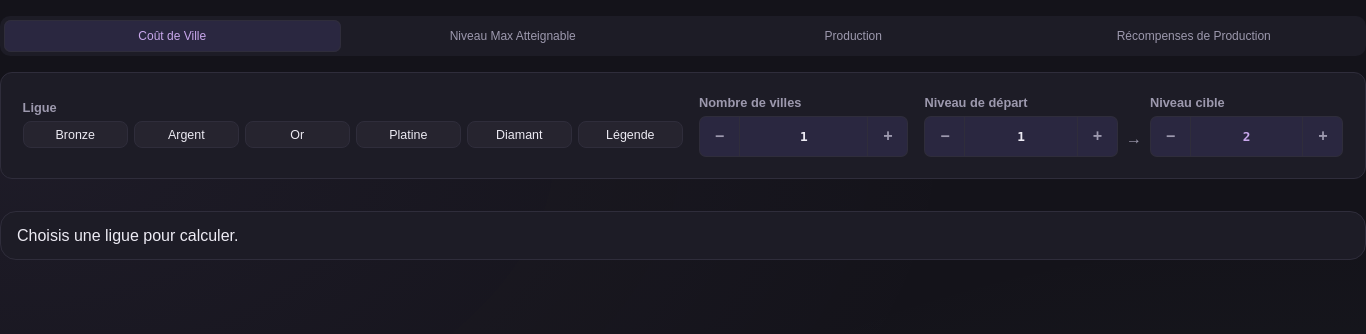
CityCalculators › computes the Armée block bonus independently from the Or block
Click the tab "Récompenses de Production" at (1194, 36), box [1026,20,1362,52]
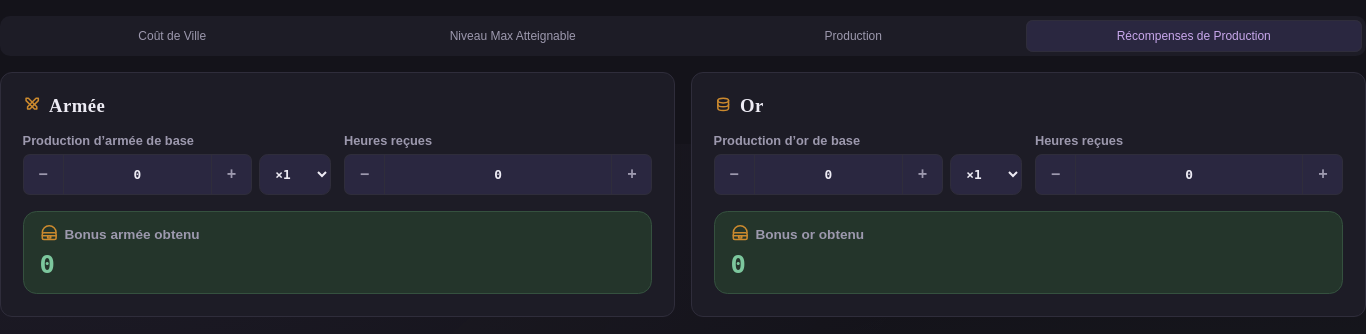
Replace the text in the number field named "Production d’or de base" with "100" at (828, 174), box [754,154,903,195]
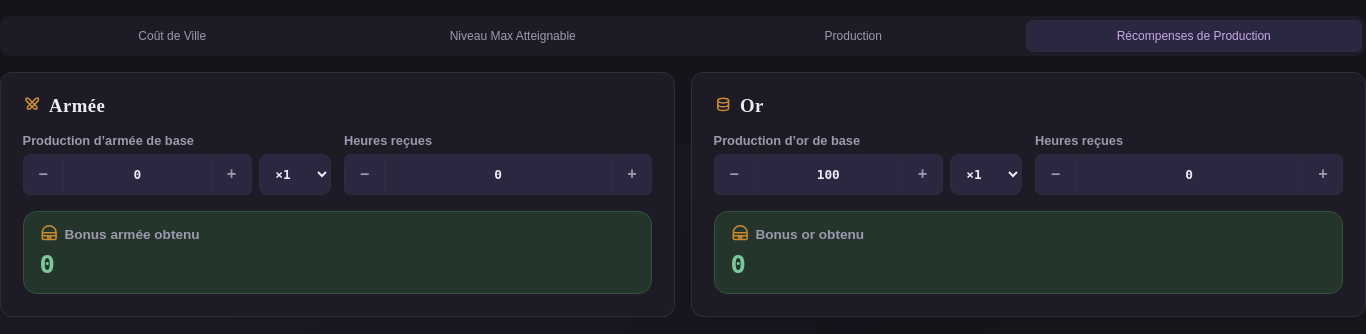
Replace the text in the number field named "Heures reçues — Or" with "10" at (1189, 174), box [1075,154,1303,195]
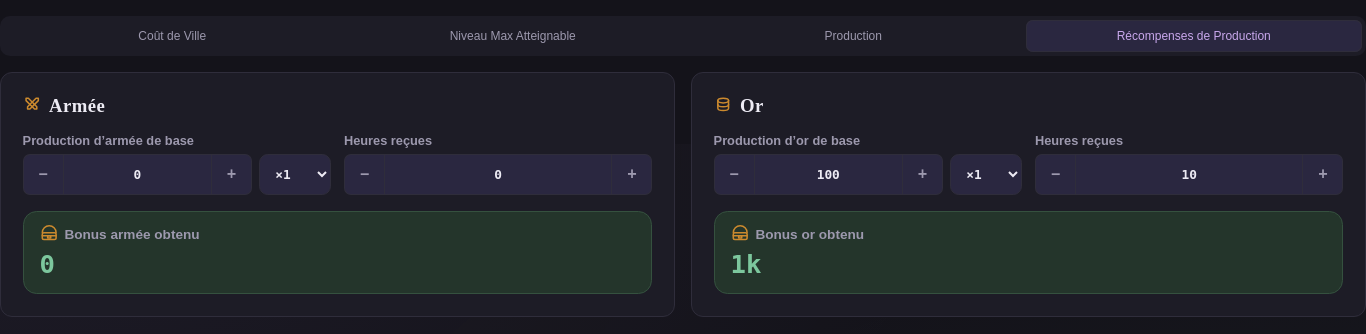
Replace the text in the number field named "Production d’armée de base" with "4" at (137, 174), box [63,154,212,195]
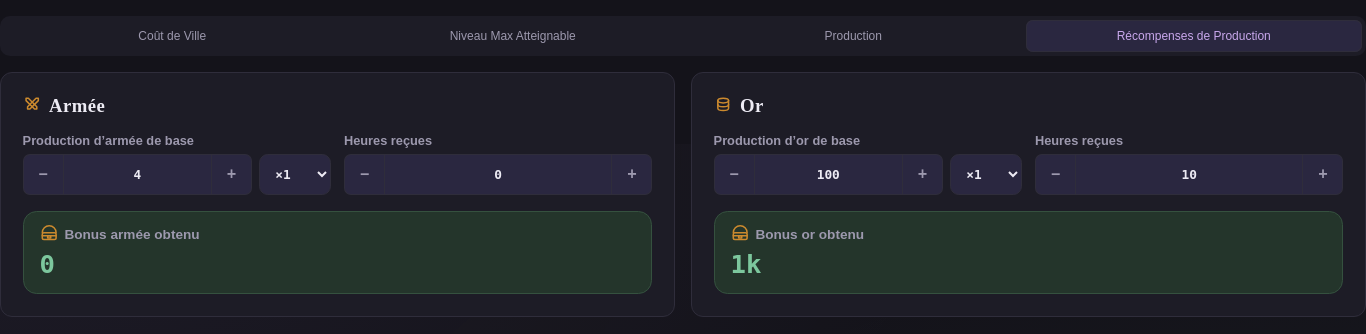
Select "M" in the dropdown named "Unité de production d’armée" at (295, 174), box [259,154,331,195]
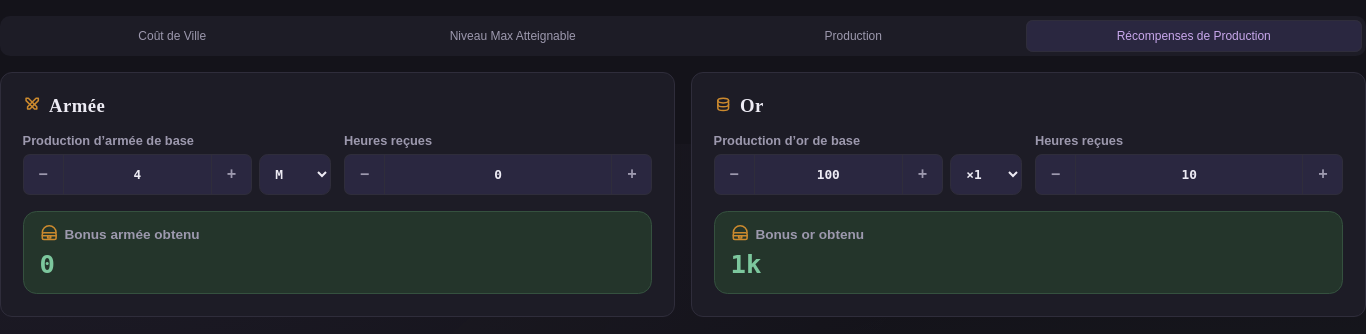
Replace the text in the number field named "Heures reçues — Armée" with "2" at (498, 174), box [384,154,612,195]
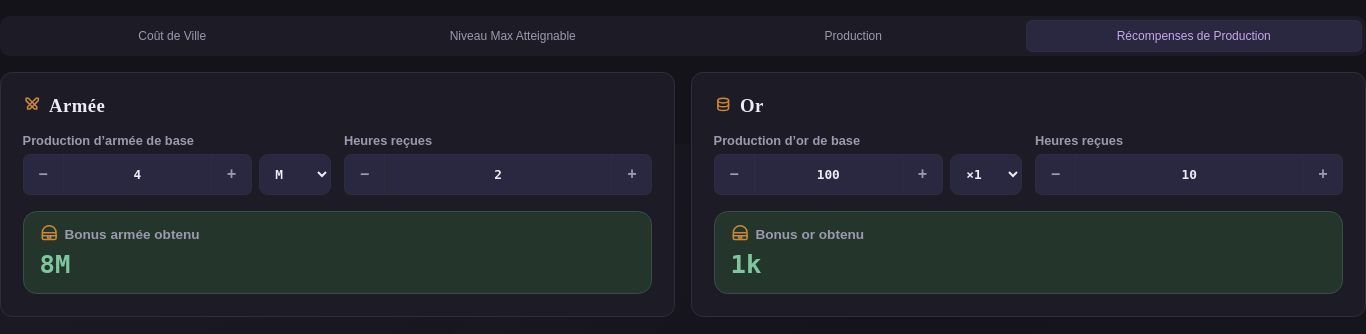
Now the text with test id "city-rewards-gold" reads "1k", box [731,249,761,279]
Now the text with test id "city-rewards-army" reads "8M", box [40,249,70,279]
